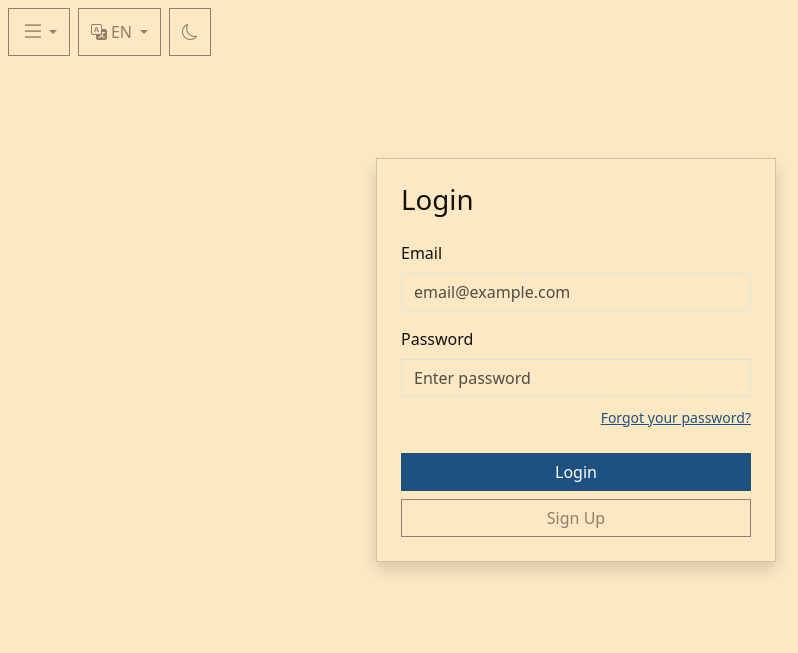
Test: Login › submits credentials and displays authentication errors
The image size is (798, 653).
Type "user@example.com" into the field labelled "Email" at (576, 292), box 401,273 -> 751,311
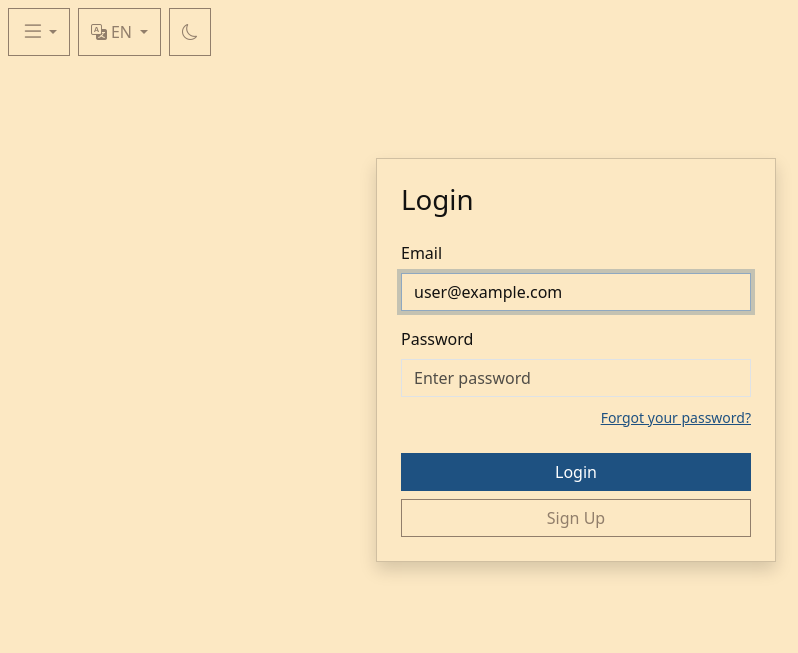
Type "password123" into the password field labelled "Password" at (576, 378), box 401,359 -> 751,397
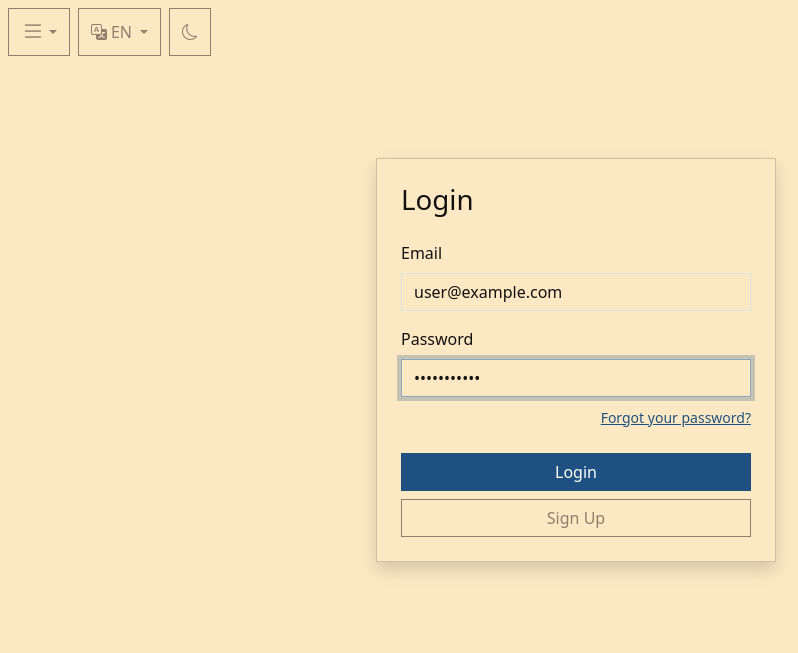
Click the button "Login" at (576, 472), box 401,453 -> 751,491
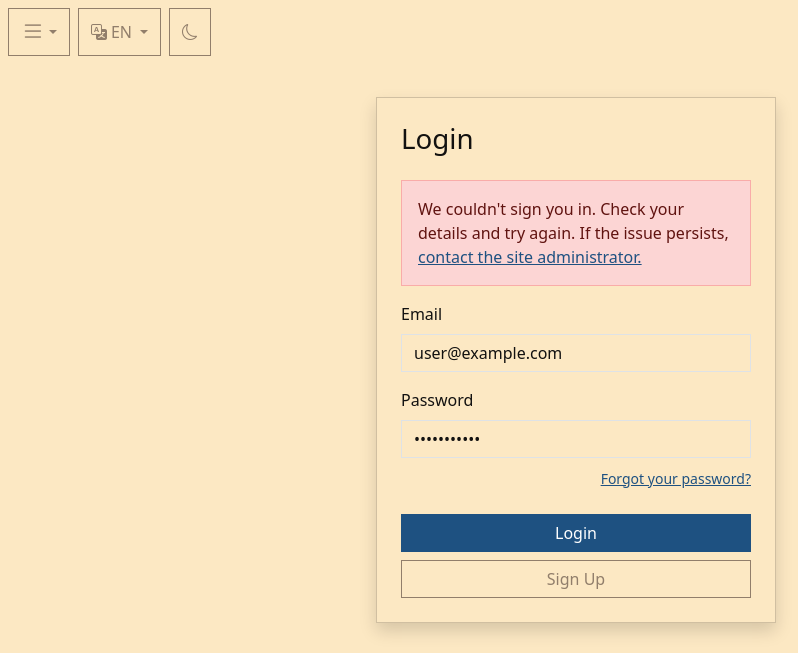
Check: the button "Login" is enabled, box 401,514 -> 751,552
Check: the message shows "We couldn't sign you in. Check your details and try again.", box 418,198 -> 684,244
Check: the message shows "If the issue persists, contact the site administrator.", box 401,180 -> 751,286
